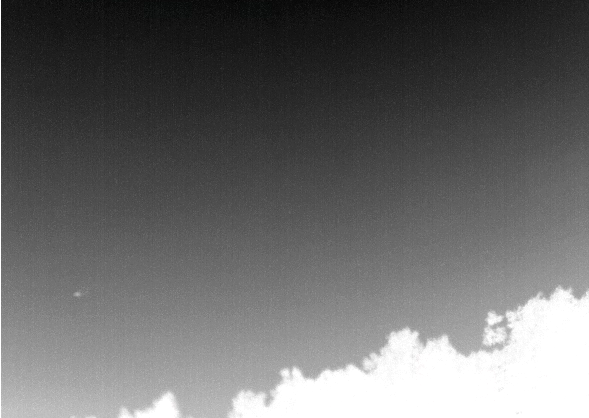dim target: (69, 289, 84, 299)
